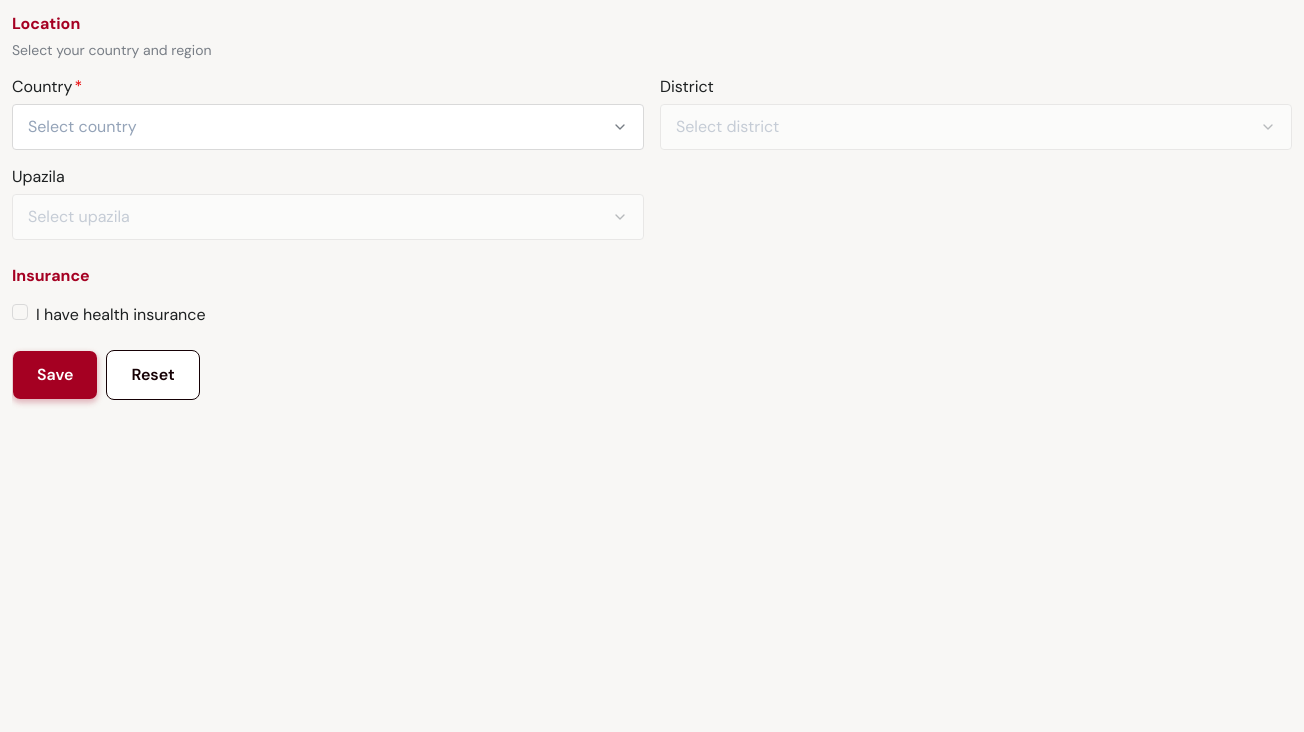
Test: ConditionalForm › hides insurance details block when hasInsurance is unchecked again
Step 1. Click the checkbox named "i have health insurance" → (20, 312), box [12,304,28,320]
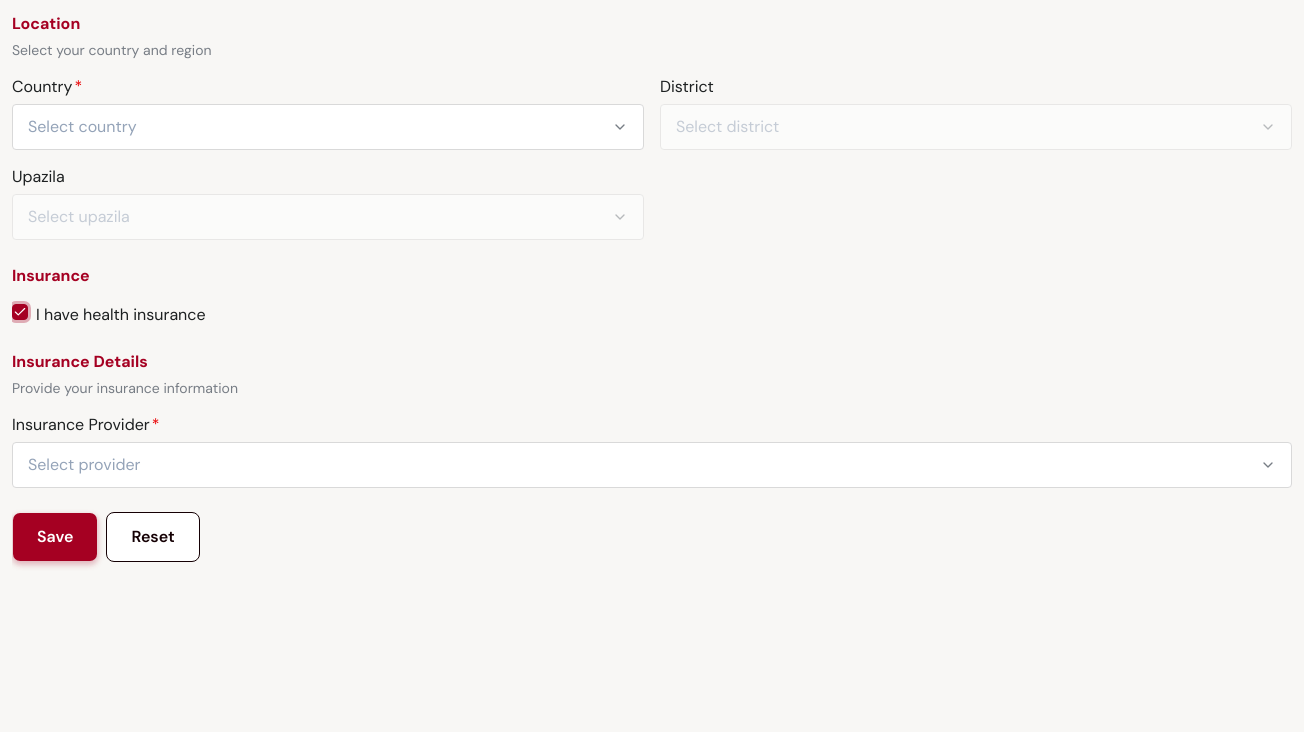
Result: the heading "Insurance Details" is shown at [12,351,148,372]
Step 2. Click the checkbox named "i have health insurance" → (20, 312), box [12,304,28,320]
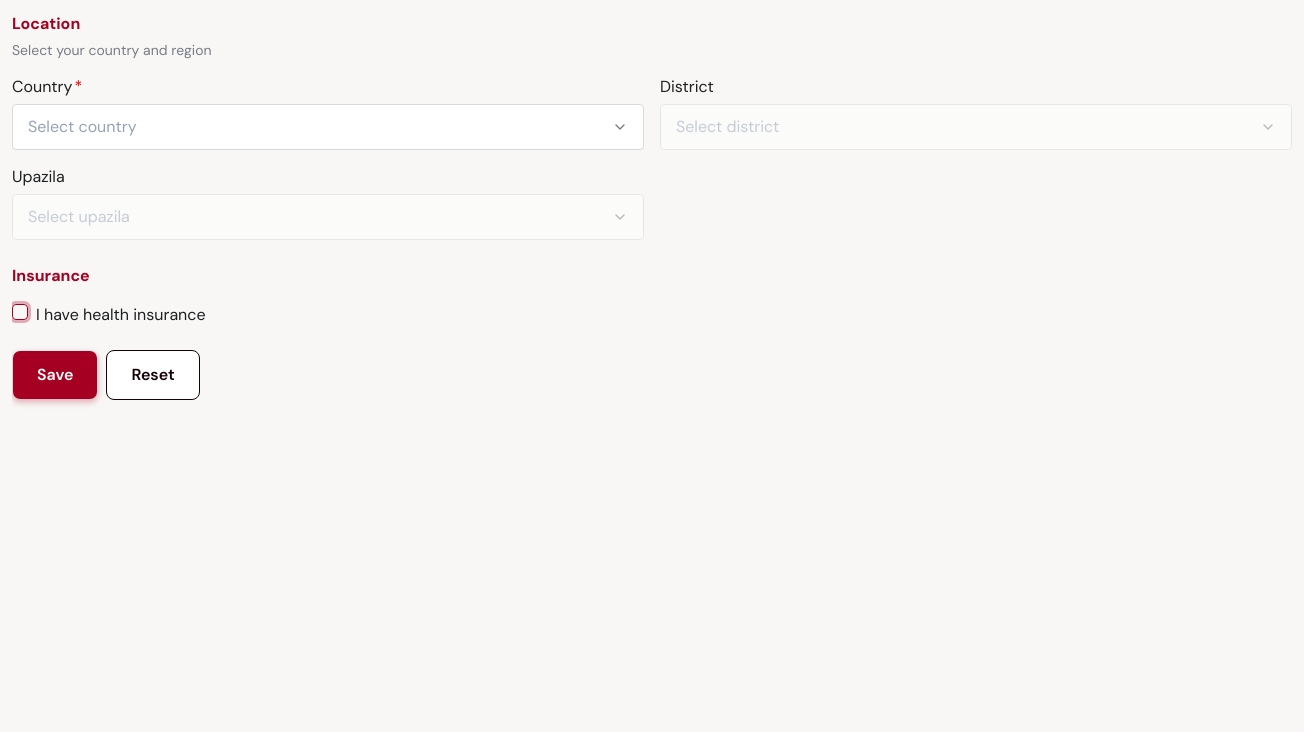
Result: the heading "Insurance Details" is gone
